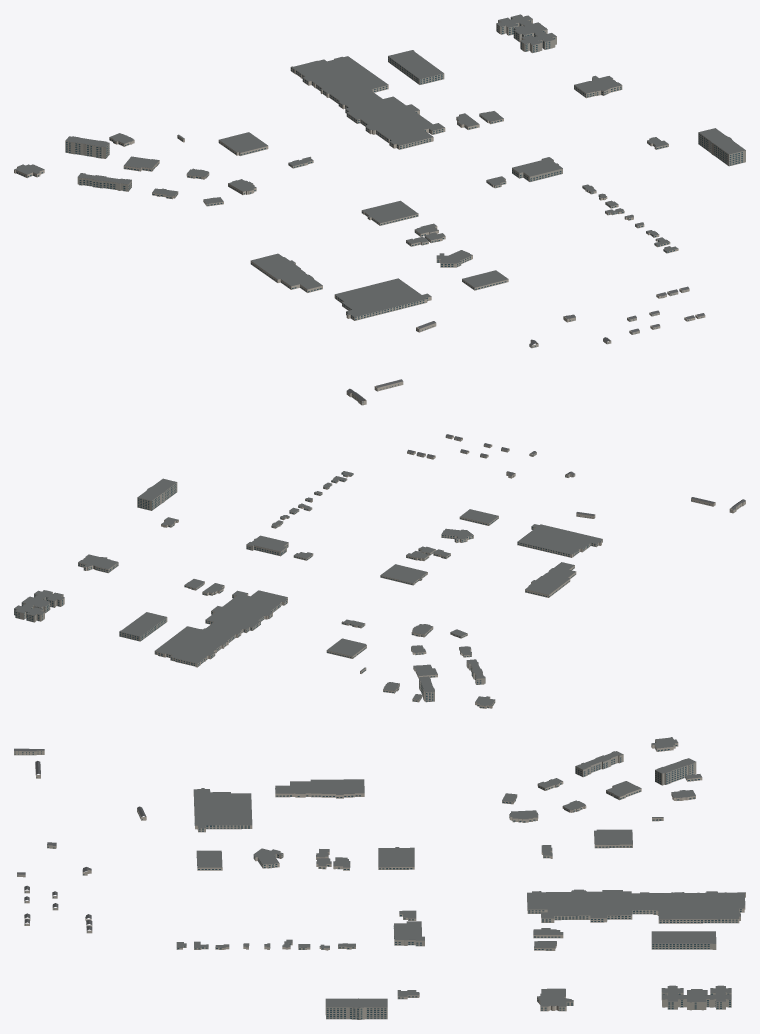
3 renders of one model, top to bottom at view 1: azimuth 30°, elevation 25°; view 2: azimuth 150°, elevation 25°; view 3: azimuth 270°, elevation 25°, orthographic. The views are drawn at different scales.
Parts seen in each view (by area): view 1: Buildings (1, -1) Roof membrane, Buildings (1, -1) Masonry brick, Buildings (1, -1) Architectural concrete, Buildings (1, -1) Architectural tinted glass; view 2: Buildings (1, -1) Roof membrane, Buildings (1, -1) Masonry brick, Buildings (1, -1) Architectural tinted glass, Buildings (1, -1) Architectural concrete; view 3: Buildings (1, -1) Roof membrane, Buildings (1, -1) Masonry brick, Buildings (1, -1) Architectural concrete, Buildings (1, -1) Architectural tinted glass, Buildings (1, -1) Metal coping, Buildings (1, -1) Roof shingles.
Part boxes in pixels (box(x1,y1,x2,y2)): Buildings (1, -1) Roof membrane: box(14, 14, 745, 316); Buildings (1, -1) Masonry brick: box(14, 59, 705, 405); Buildings (1, -1) Architectural concrete: box(65, 17, 745, 191); Buildings (1, -1) Architectural tinted glass: box(16, 18, 742, 404); Buildings (1, -1) Roof membrane: box(14, 471, 602, 705); Buildings (1, -1) Masonry brick: box(78, 435, 745, 708); Buildings (1, -1) Architectural tinted glass: box(14, 436, 743, 707); Buildings (1, -1) Architectural concrete: box(14, 482, 485, 702); Buildings (1, -1) Roof membrane: box(176, 737, 745, 1007); Buildings (1, -1) Masonry brick: box(14, 740, 745, 1011); Buildings (1, -1) Architectural concrete: box(325, 754, 731, 1019); Buildings (1, -1) Architectural tinted glass: box(14, 742, 741, 1019); Buildings (1, -1) Metal coping: box(177, 737, 743, 1007); Buildings (1, -1) Roof shingles: box(14, 748, 146, 930).
Size of the model in its own units: 950 by 21.8 by 1056.
